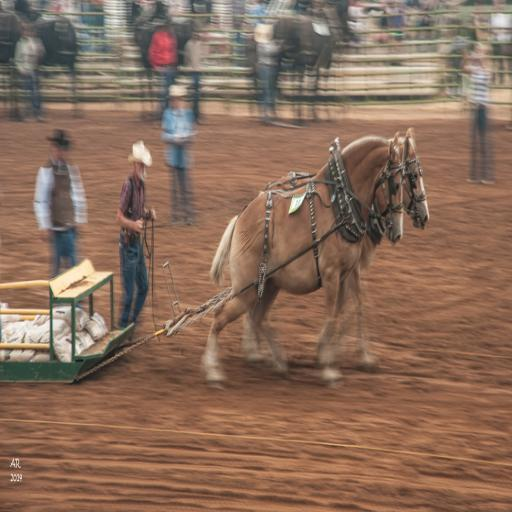horse: (199, 130, 404, 390), (242, 124, 432, 366)
